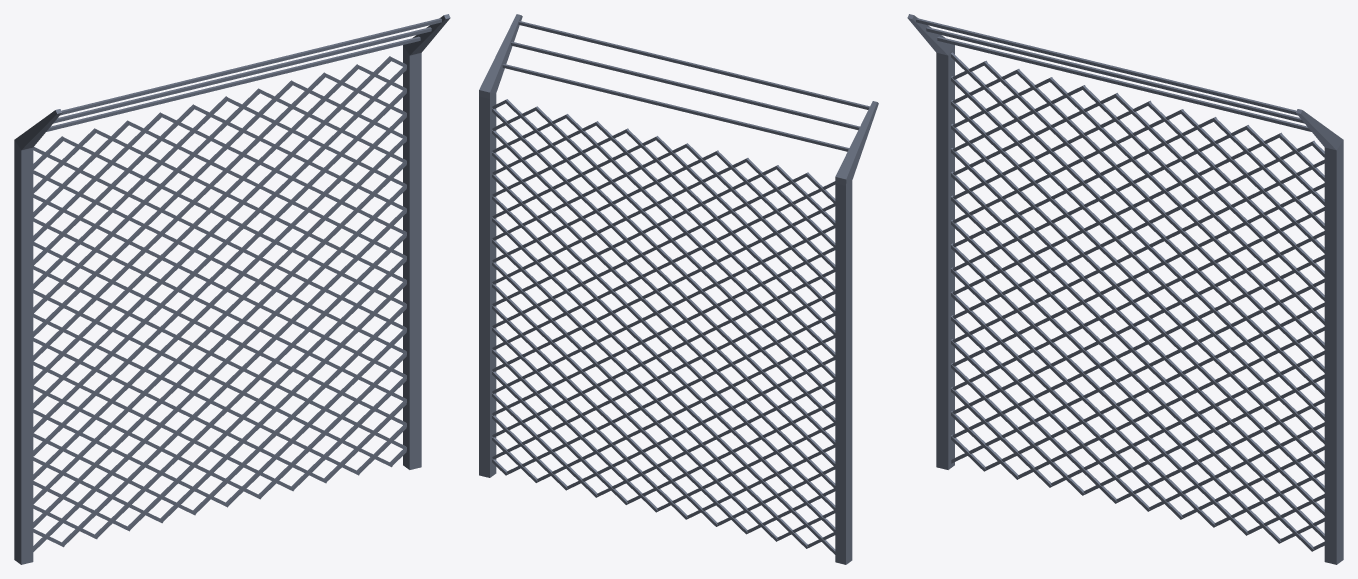
Rendered from fence_metal_1.fbx.
The picture shows the model from 3 angles, left to right: view 1: azimuth 30°, elevation 25°; view 2: azimuth 150°, elevation 25°; view 3: azimuth 330°, elevation 25°; orthographic projection. The views are drawn at different scales.
Parts seen in each view (by area): view 1: fence_metal_1; view 2: fence_metal_1; view 3: fence_metal_1.
Boxes of the visible parts, x1,y1,x2,y2 form: fence_metal_1: (14,14,450,564); fence_metal_1: (479,14,878,564); fence_metal_1: (907,14,1343,564).
Bounding box in the file's own units: 439 × 499 × 74.61.
